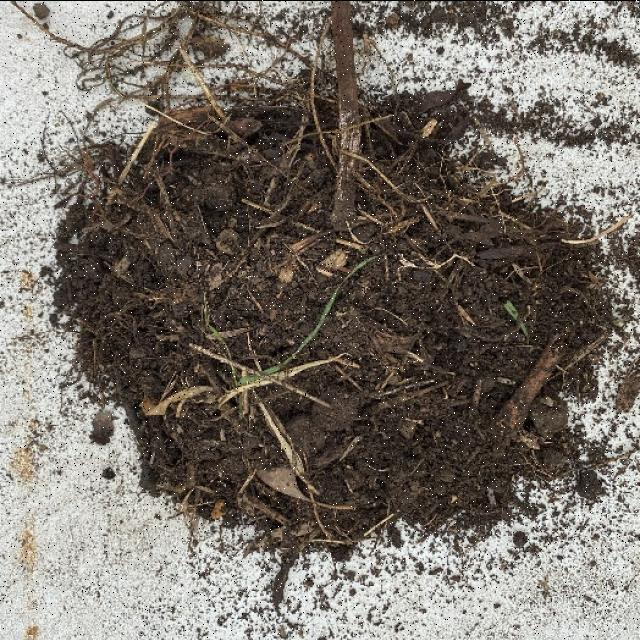organik: (105, 84, 586, 508)
